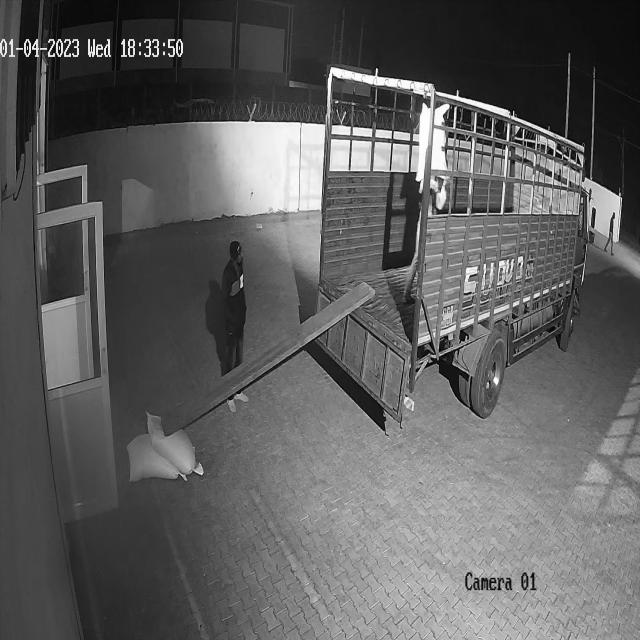sack: (144, 410, 205, 474), (126, 432, 188, 482), (415, 102, 450, 183)
